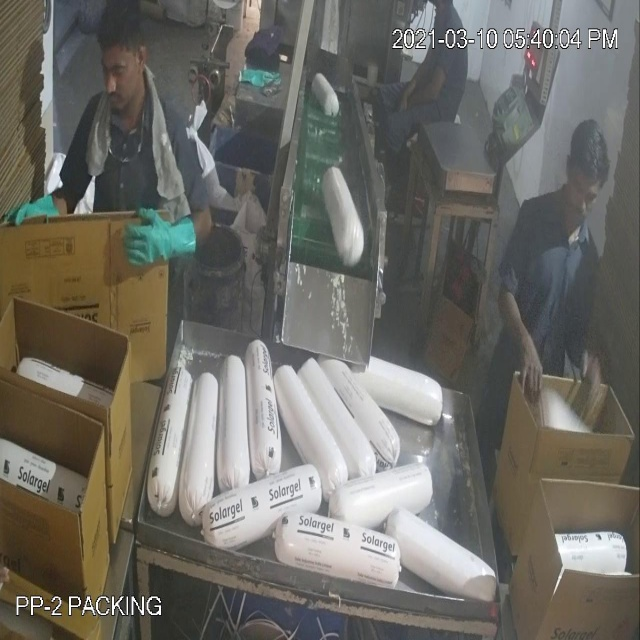Guantes: (111, 193, 208, 282), (399, 58, 446, 119)
Sin_guantes: (493, 270, 546, 397)
